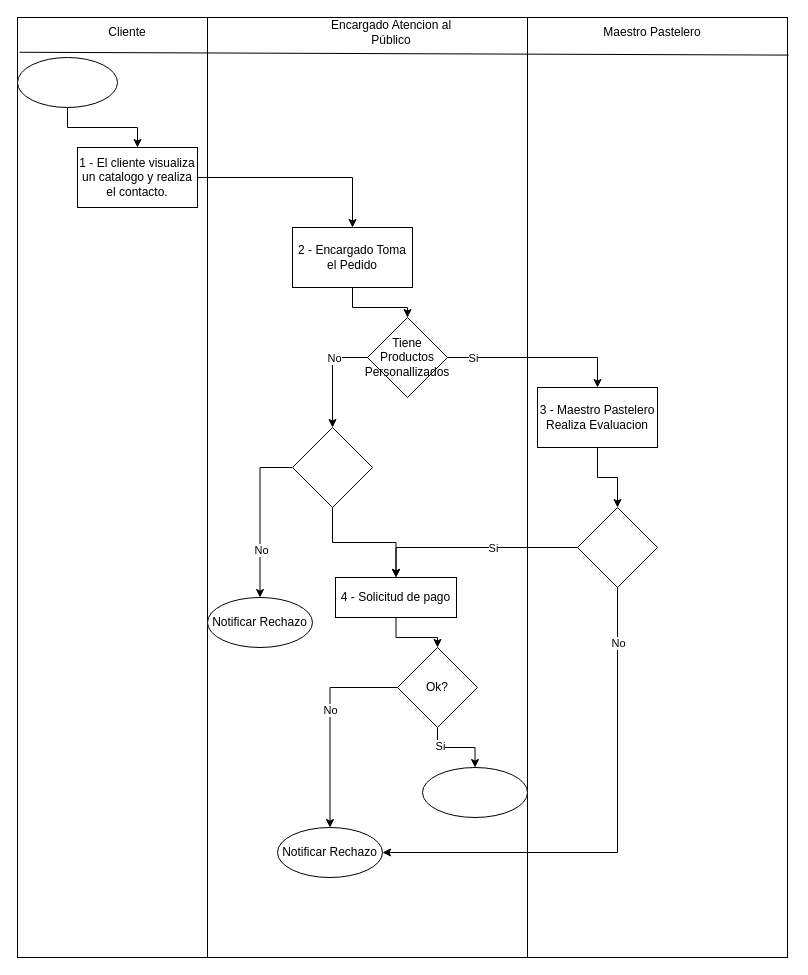
This 808x975 diagram has some shape labels left out. Here are the shapes that lost their labels. From the top down, the centre of each, then its label:
(67,82): Comienzo
(332,467): Hay en stock
(617,547): Es Posible
(475,792): Comienzo de Pedido
